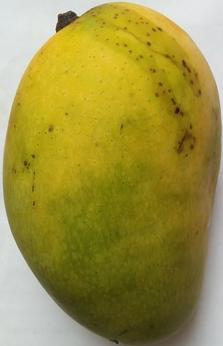PartiallyRipe: (1, 0, 223, 346)
